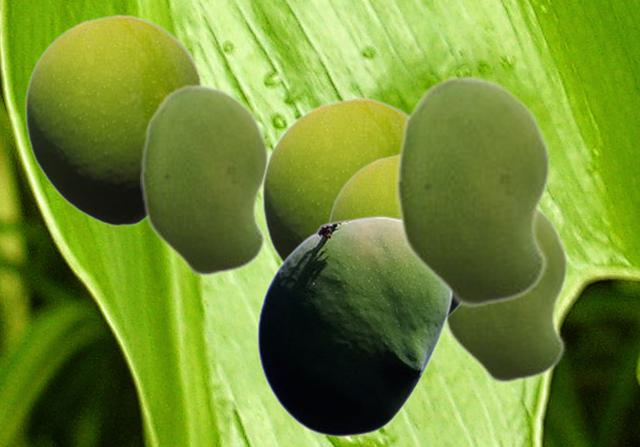green_mango: (256, 215, 453, 436), (24, 14, 204, 226), (395, 74, 551, 308), (140, 83, 269, 277), (261, 97, 406, 261), (327, 153, 458, 318), (445, 209, 568, 384)
